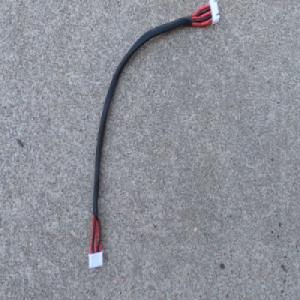Wire: (87, 0, 221, 271)
